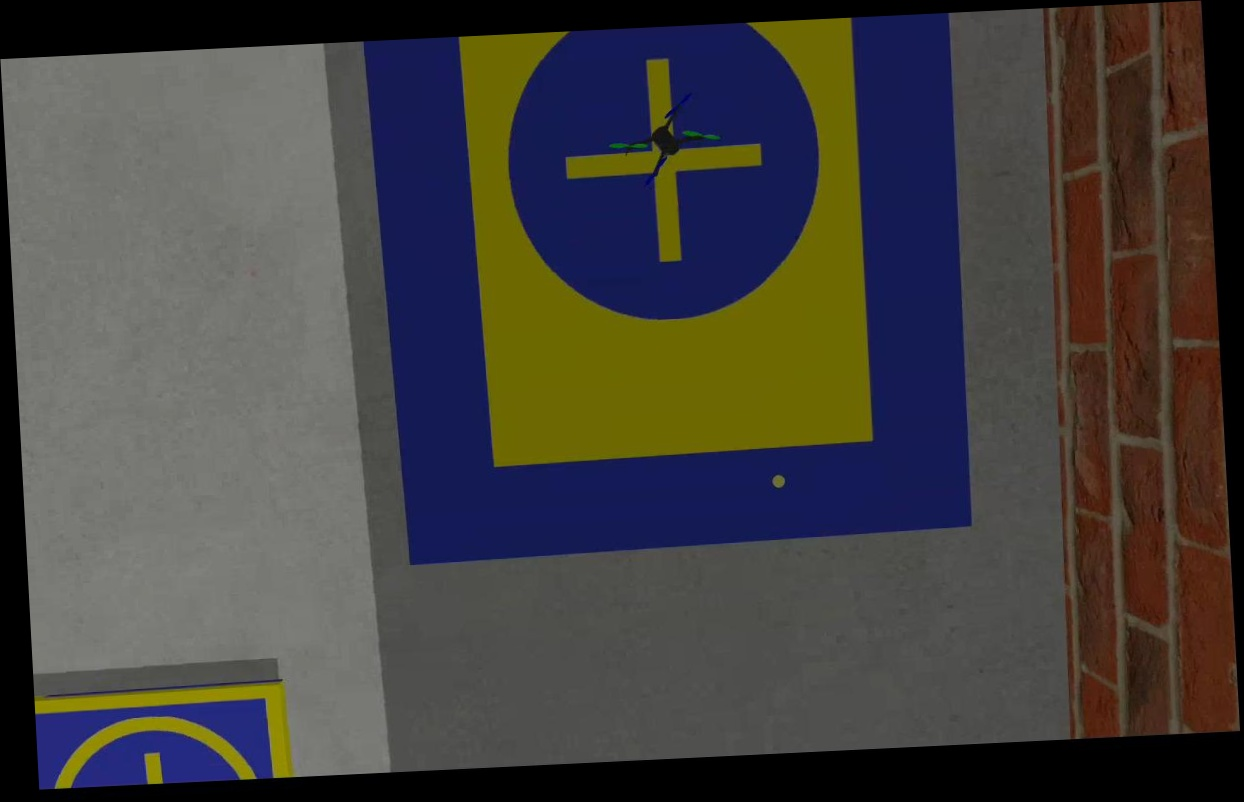large_base: (363, 13, 974, 567)
small_base: (34, 678, 291, 791)
